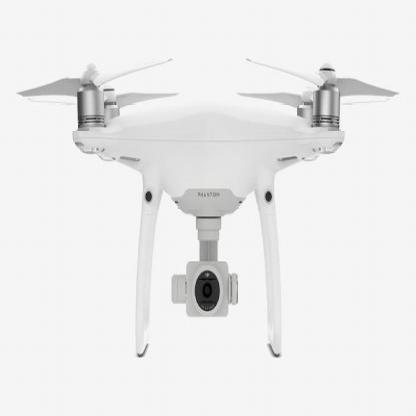drone: (27, 35, 413, 307)
